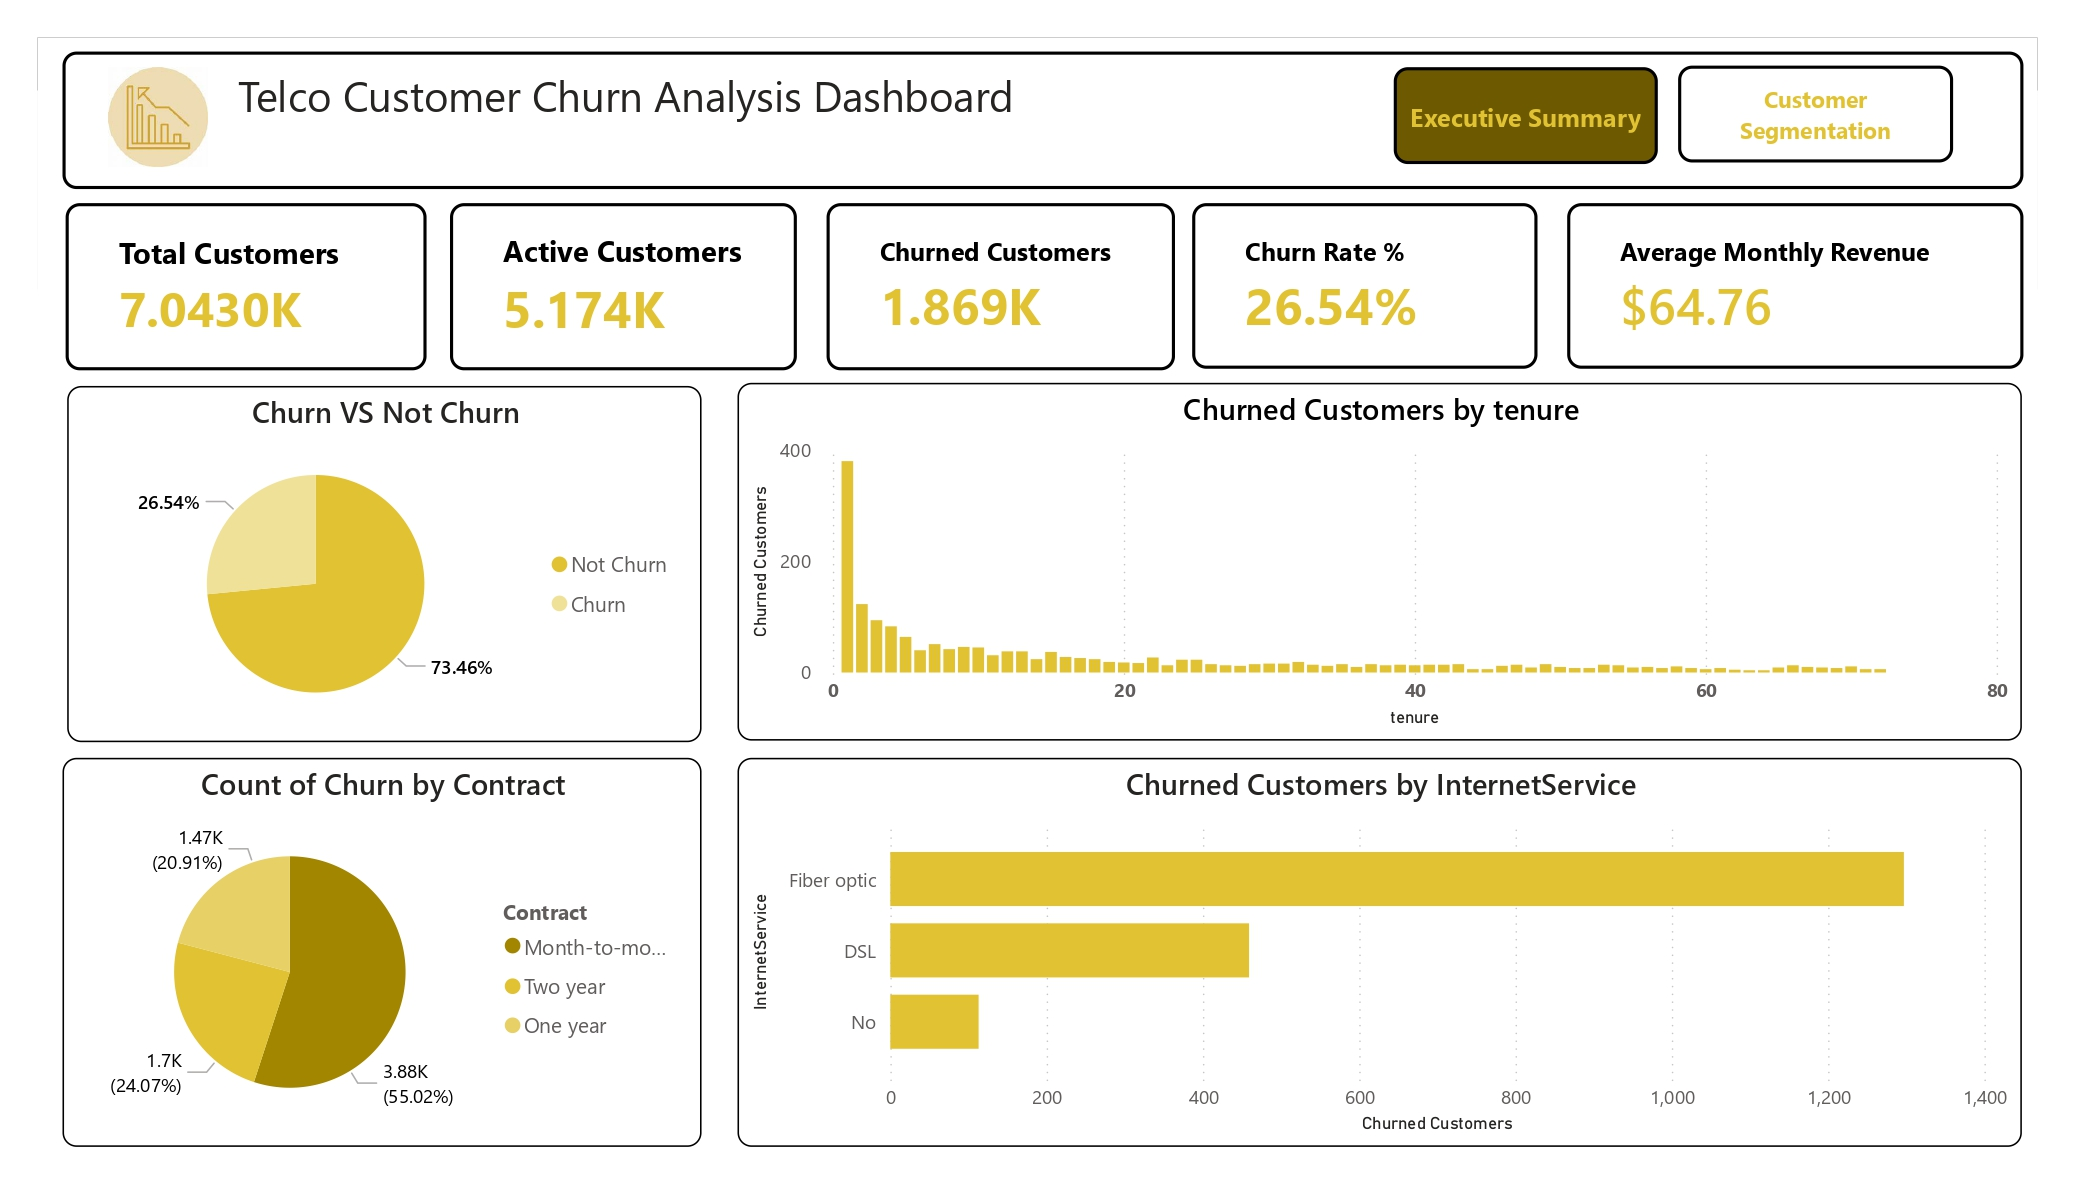

The dashboard page shown, as its layout file describes it:
{"tool":"powerbi","page":{"name":"Executive Summary","canvas":[1280,720],"ordinal":0},"visuals":[{"type":"textbox","box":[16.2,8.8,1255,87.5],"z":0,"group":"g2"},{"type":"actionButton","box":[868.2,18.9,168.8,62.4],"z":1000,"group":"g2"},{"type":"cardVisual","fields":{"Data":["WA_Fn-UseC_-Telco-Customer-Chur.Measure"]},"box":[17.5,106.2,231.4,106.2],"z":1000,"group":"g1"},{"type":"pieChart","title":"Churn VS Not Churn ","fields":{"Y":["WA_Fn-UseC_-Telco-Customer-Chur.Active Customers","WA_Fn-UseC_-Telco-Customer-Chur.Churned Customers"]},"box":[18.8,222.5,406.2,228.8],"z":1000},{"type":"actionButton","box":[1050.4,17.7,176.1,62.4],"z":2000,"group":"g2"},{"type":"group","id":"g1","title":"Group 1","box":[17.5,105.9,1253.1,106.6],"z":2000},{"type":"cardVisual","fields":{"Data":["WA_Fn-UseC_-Telco-Customer-Chur.Measure"]},"box":[263.1,106.2,222.8,106.2],"z":2000,"group":"g1"},{"type":"cardVisual","fields":{"Data":["WA_Fn-UseC_-Telco-Customer-Chur.Churned Customers"]},"box":[504.5,106.2,222.8,106.2],"z":3000,"group":"g1"},{"type":"columnChart","fields":{"Category":["WA_Fn-UseC_-Telco-Customer-Chur.tenure"],"Y":["WA_Fn-UseC_-Telco-Customer-Chur.Churned Customers"]},"box":[447.5,221.2,822.5,228.8],"z":3000},{"type":"cardVisual","fields":{"Data":["WA_Fn-UseC_-Telco-Customer-Chur.Measure"]},"box":[738.1,106,221.2,106.2],"z":4000,"group":"g1"},{"type":"pieChart","fields":{"Y":["CountNonNull(WA_Fn-UseC_-Telco-Customer-Chur.Churn)"],"Category":["WA_Fn-UseC_-Telco-Customer-Chur.Contract"]},"box":[16.2,461.2,408.8,248.8],"z":4000},{"type":"image","box":[41.6,18.9,70.9,63.6],"z":5000,"group":"g2"},{"type":"cardVisual","fields":{"Data":["WA_Fn-UseC_-Telco-Customer-Chur.Measure"]},"box":[978.1,105.9,292.5,106.2],"z":5000,"group":"g1"},{"type":"barChart","fields":{"Category":["WA_Fn-UseC_-Telco-Customer-Chur.InternetService"],"Y":["WA_Fn-UseC_-Telco-Customer-Chur.Churned Customers"]},"box":[447.5,461.2,822.5,248.8],"z":6000},{"type":"group","id":"g2","title":"Group 2","box":[16.2,8.8,1255,87.5],"z":6001}]}

Visuals, with their boxes in screenshot pixels (x1, y1, x2, y2):
textbox: rect(63, 46, 1998, 181)
actionButton: rect(1377, 62, 1637, 158)
cardVisual - WA_Fn-UseC_-Telco-Customer-Chur.Measure: rect(65, 196, 422, 360)
"Churn VS Not Churn " pieChart: rect(67, 376, 693, 728)
actionButton: rect(1658, 60, 1929, 156)
"Group 1" group: rect(65, 196, 1997, 360)
cardVisual - WA_Fn-UseC_-Telco-Customer-Chur.Measure: rect(444, 196, 787, 360)
cardVisual - WA_Fn-UseC_-Telco-Customer-Chur.Churned Customers: rect(816, 196, 1159, 360)
columnChart - WA_Fn-UseC_-Telco-Customer-Chur.tenure x WA_Fn-UseC_-Telco-Customer-Chur.Churned Customers: rect(728, 374, 1996, 726)
cardVisual - WA_Fn-UseC_-Telco-Customer-Chur.Measure: rect(1176, 196, 1517, 360)
pieChart - CountNonNull(WA_Fn-UseC_-Telco-Customer-Chur.Churn) x WA_Fn-UseC_-Telco-Customer-Chur.Contract: rect(63, 744, 693, 1127)
image: rect(102, 62, 211, 160)
cardVisual - WA_Fn-UseC_-Telco-Customer-Chur.Measure: rect(1546, 196, 1997, 359)
barChart - WA_Fn-UseC_-Telco-Customer-Chur.InternetService x WA_Fn-UseC_-Telco-Customer-Chur.Churned Customers: rect(728, 744, 1996, 1127)
"Group 2" group: rect(63, 46, 1998, 181)
